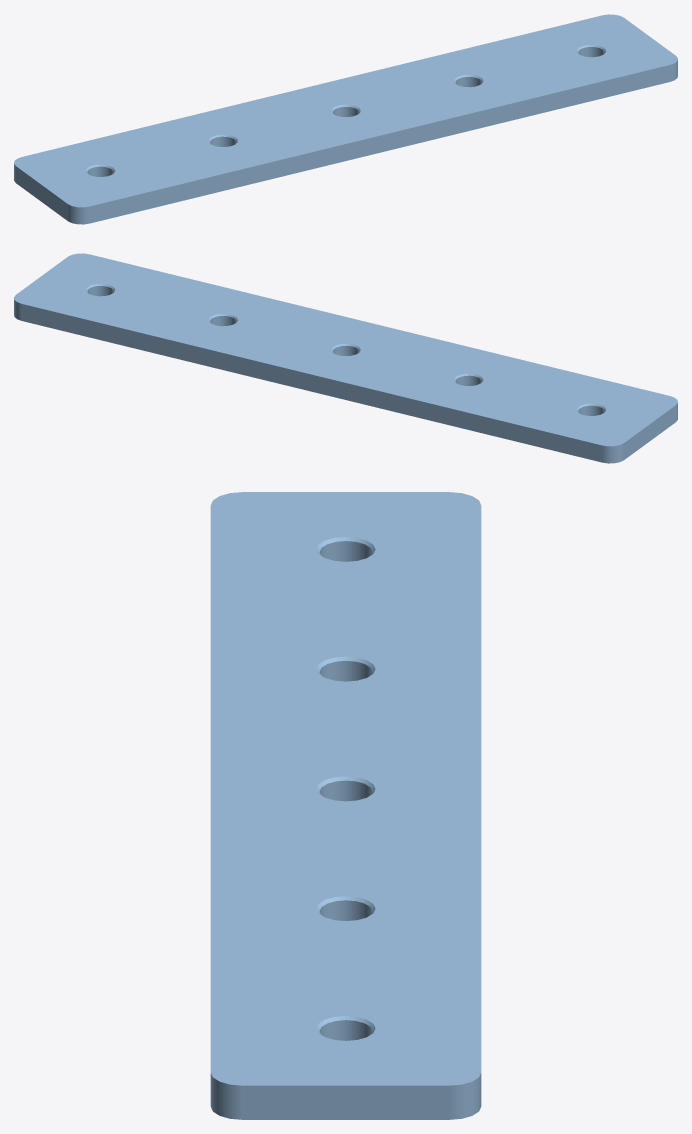
3 renders of one model, top to bottom at view 1: azimuth 30°, elevation 25°; view 2: azimuth 150°, elevation 25°; view 3: azimuth 270°, elevation 25°, orthographic. The views are drawn at different scales.
Parts seen in each view (by area): view 1: mesh15837, mesh15844, mesh15843, mesh15840; view 2: mesh15837, mesh15842, mesh15843, mesh15841; view 3: mesh15837, mesh15845, mesh15838, mesh15839.
Part boxes in pixels (<box>): mesh15837: <box>14,14,677,207</box>; mesh15844: <box>89,65,670,223</box>; mesh15843: <box>16,166,67,220</box>; mesh15840: <box>68,204,89,224</box>; mesh15837: <box>14,253,677,446</box>; mesh15842: <box>21,304,602,462</box>; mesh15843: <box>624,405,675,459</box>; mesh15841: <box>602,443,623,463</box>; mesh15837: <box>210,492,481,1085</box>; mesh15845: <box>242,1085,449,1119</box>; mesh15838: <box>210,1073,241,1119</box>; mesh15839: <box>450,1073,481,1119</box>.
Size of the model in its own units: 0.223 by 0.006 by 0.043.
